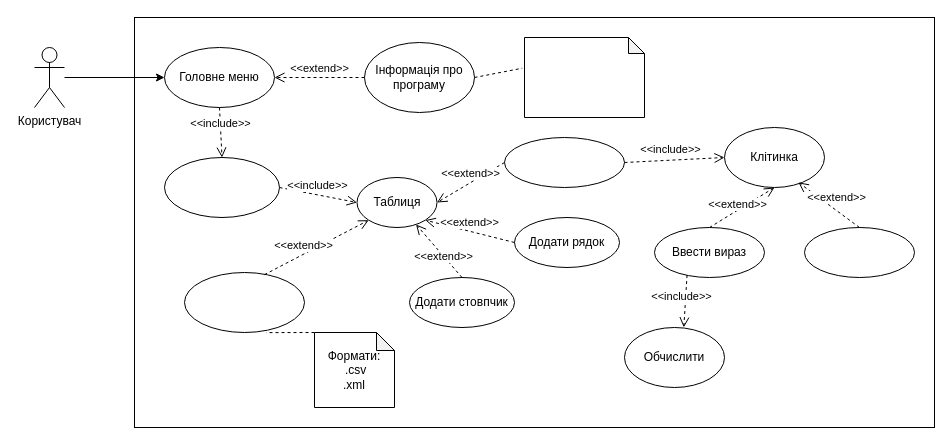
Image size: 952x445. Some labels were removed from this diagram. Each missing label, with the centre of its shape:
"- ПІБ виконавця проєкту - Номер варіанту" belongs at pixel 584 77.
"Ввести ціле значення" belongs at pixel 859 252.
"Вибрати клітинку" belongs at pixel 564 162.
"Зберегти таблицю" belongs at pixel 244 302.
"Створити порожню таблицю" belongs at pixel 222 187.
